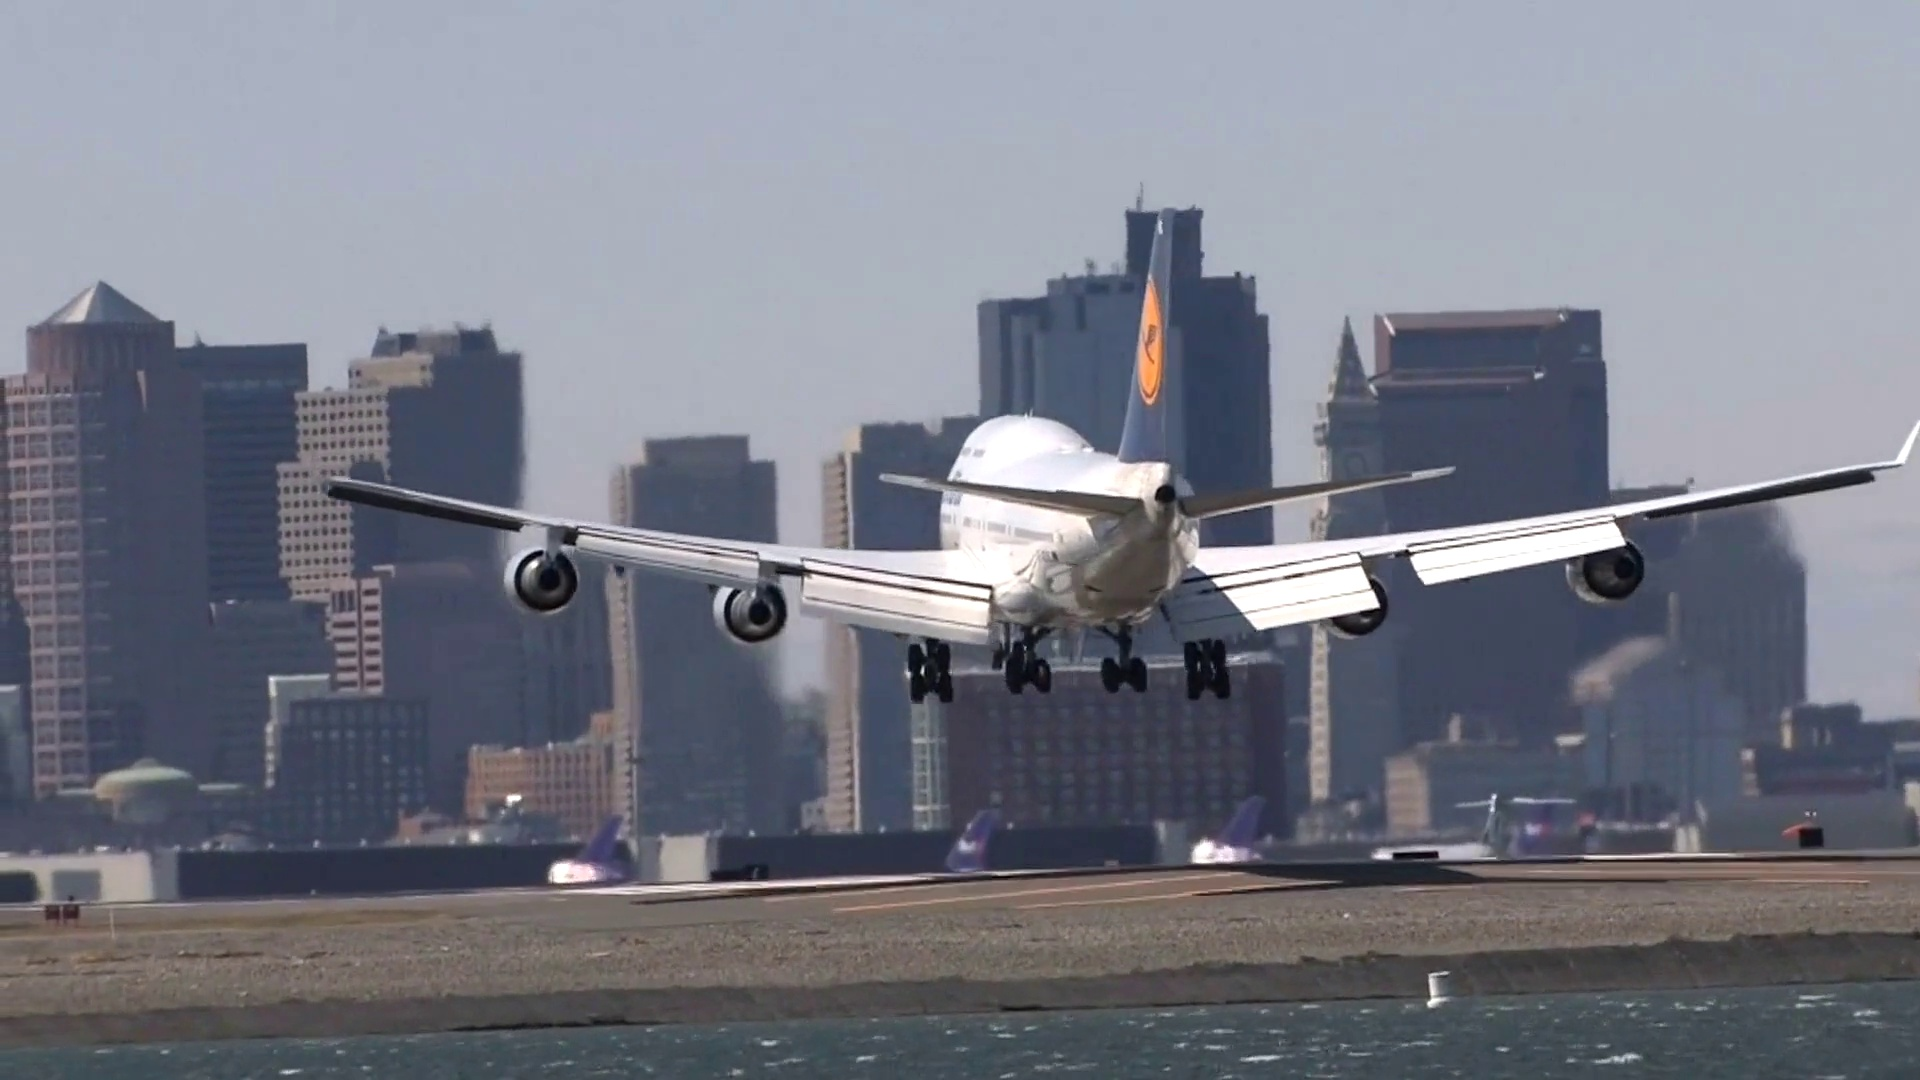plane: (320, 206, 1920, 704)
